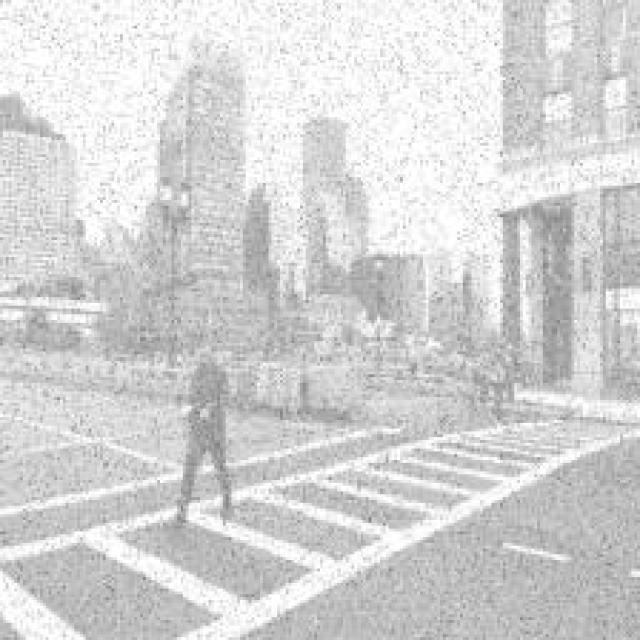crosswalk: (19, 419, 640, 640)
